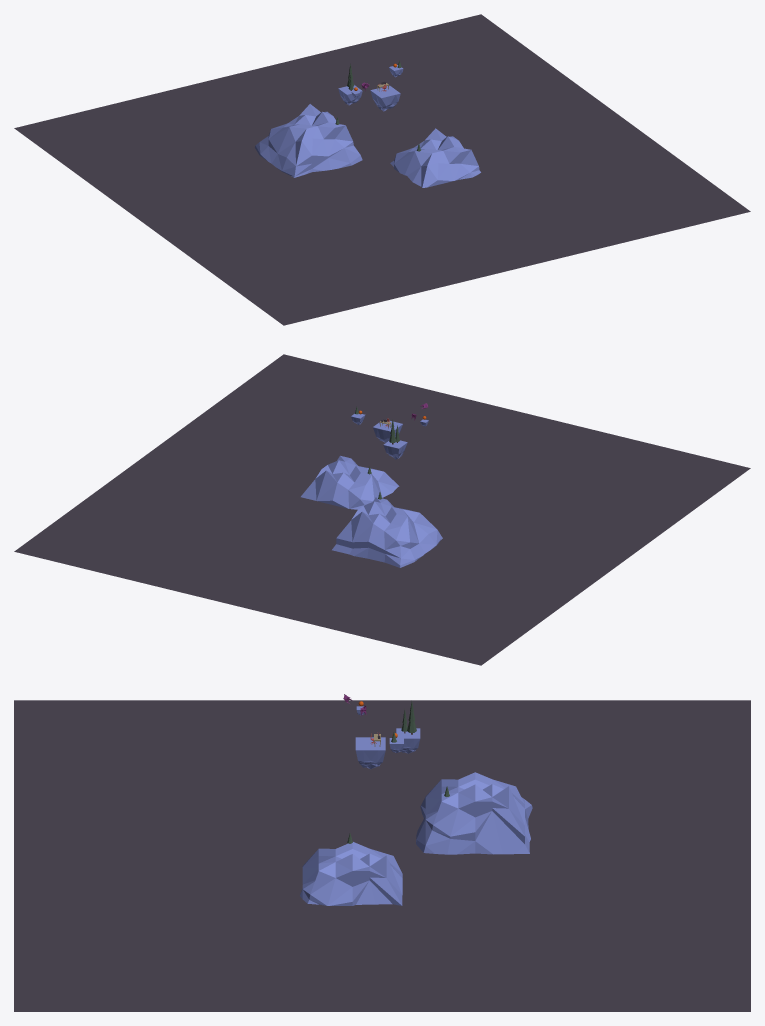
File: office2.dae
3 renders of one model, top to bottom at view 1: azimuth 30°, elevation 25°; view 2: azimuth 150°, elevation 25°; view 3: azimuth 270°, elevation 25°, orthographic. The views are drawn at different scales.
Parts seen in each view (by area): view 1: Plane, Cube_010, Cube_011, Cube_003; view 2: Plane, Cube_010, Cube_011; view 3: Plane, Cube_010, Cube_011, Cube_003.
Boxes of the visible parts, left/top/right/bottom form: Plane: left=14, top=14, right=750, bottom=325; Cube_010: left=255, top=104, right=362, bottom=177; Cube_011: left=390, top=128, right=480, bottom=187; Cube_003: left=370, top=85, right=400, bottom=111; Plane: left=14, top=354, right=750, bottom=665; Cube_010: left=332, top=497, right=442, bottom=567; Cube_011: left=301, top=455, right=399, bottom=509; Plane: left=14, top=700, right=750, bottom=1011; Cube_010: left=416, top=772, right=532, bottom=854; Cube_011: left=300, top=842, right=402, bottom=905; Cube_003: left=355, top=737, right=385, bottom=769.
Size of the model in its own units: 126 by 126 by 40.9.
